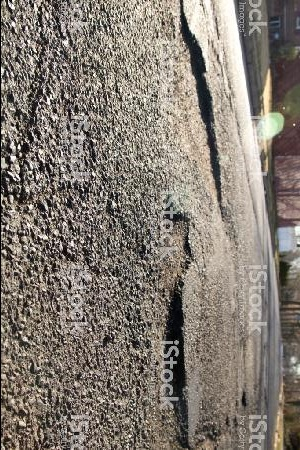pothole: (164, 5, 228, 216), (150, 204, 196, 449)
